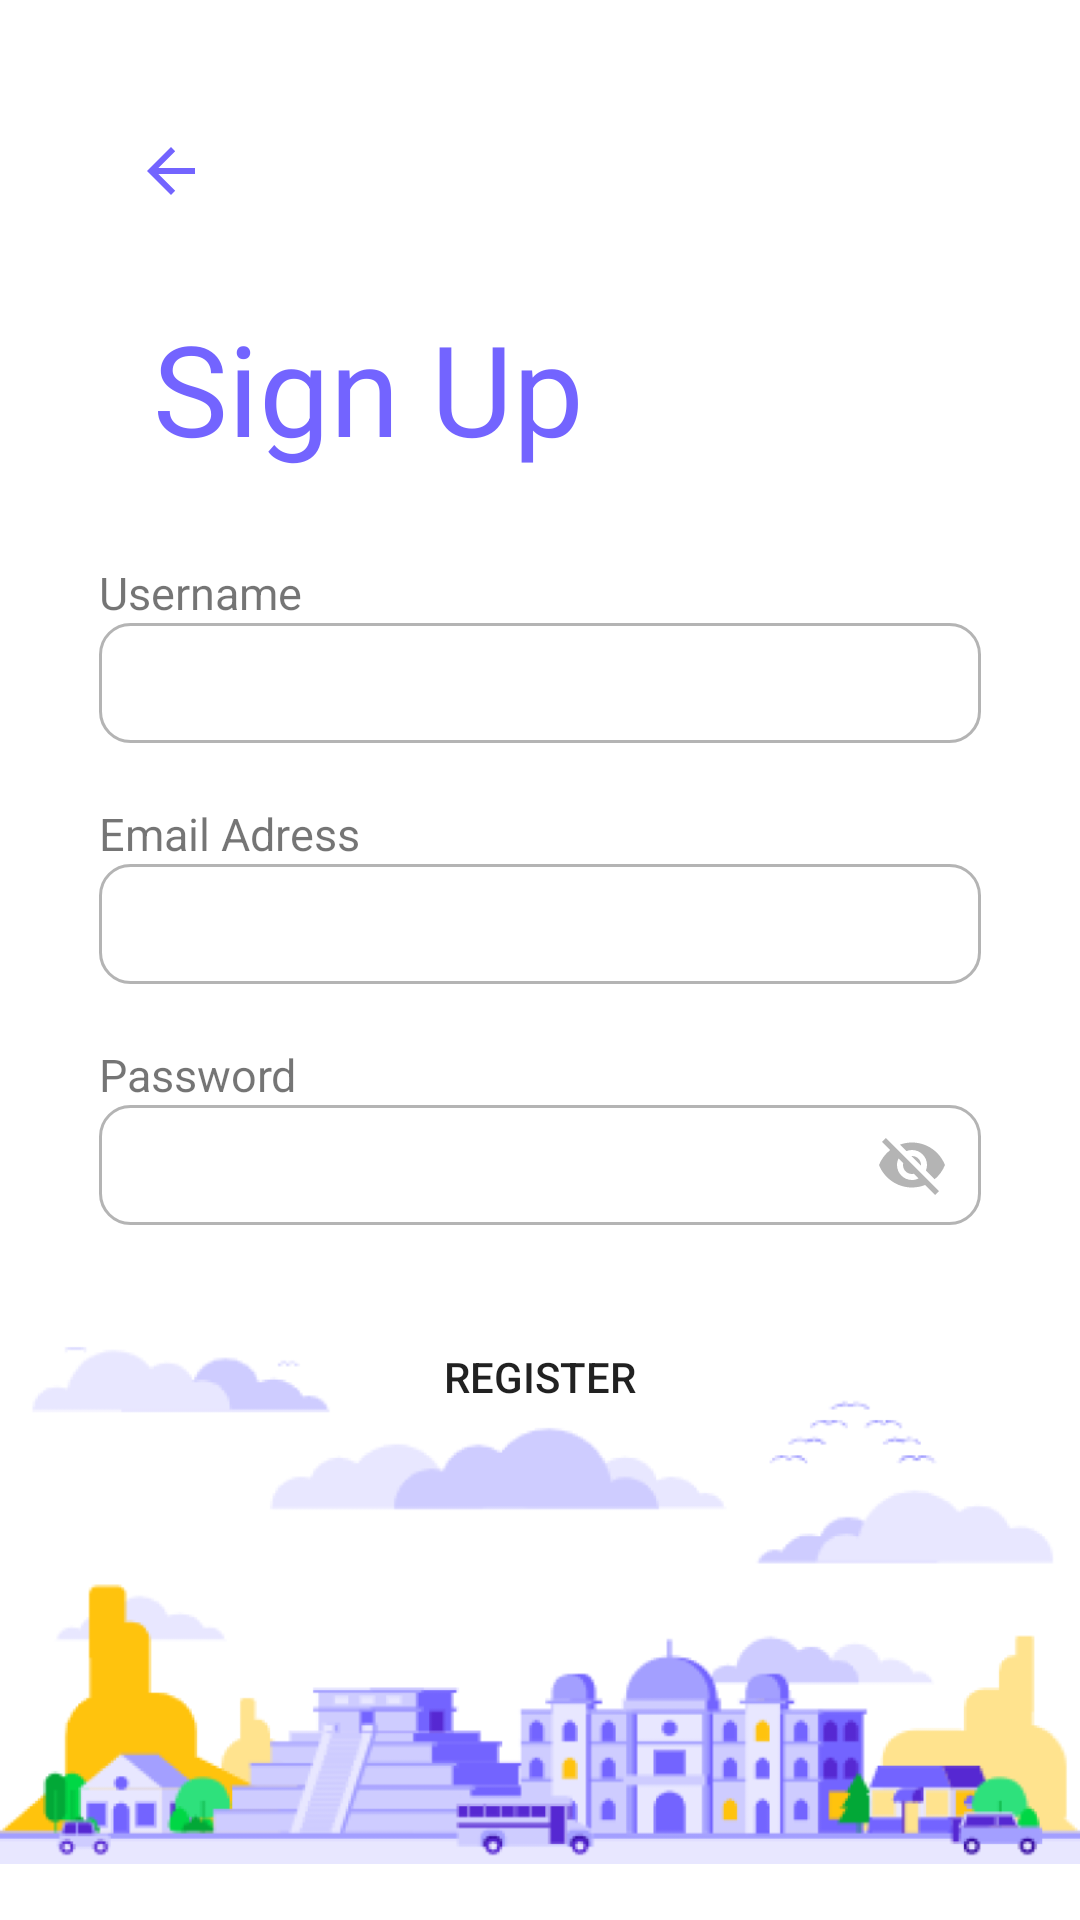

Icons on this 1080 x 1920 Android screen, each with its box as (x1, y1, x2, y2):
Back to Login Button: (147, 147, 195, 195)
visibility off: (879, 1138, 945, 1195)
